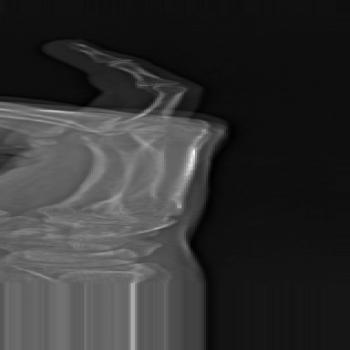Fracture: (129, 82, 177, 92)
